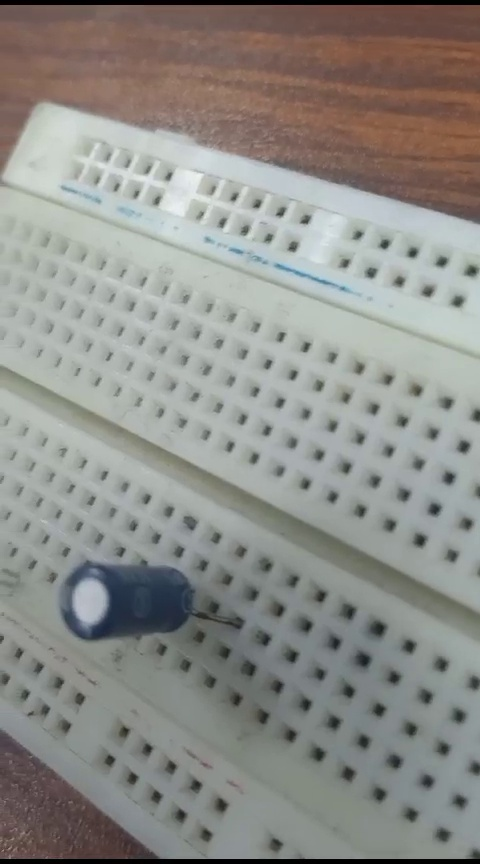capacitor: (46, 564, 224, 655)
